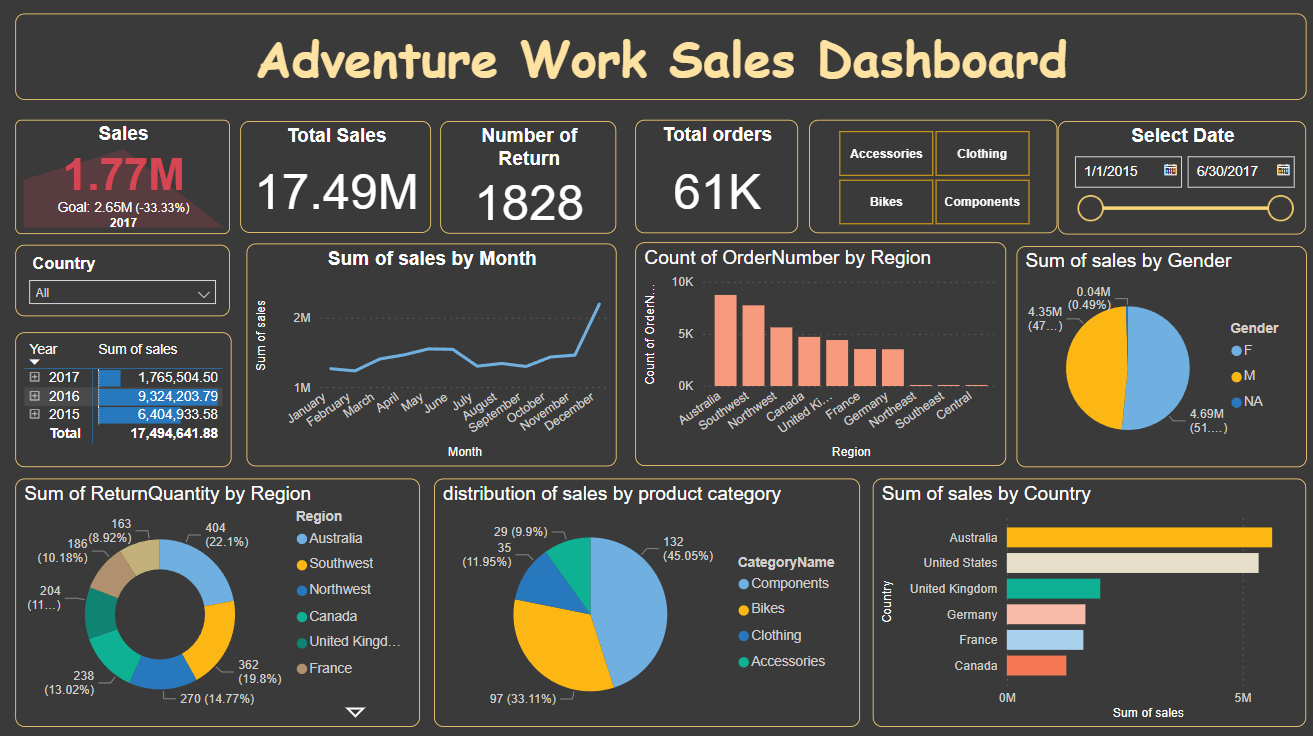

Layout of this report page (visuals, bound fields, positions):
{"tool":"powerbi","page":{"name":"Page 1","canvas":[1280,720],"ordinal":0},"visuals":[{"type":"pivotTable","fields":{"Values":["Sum(AW_sales_all_years.sales)"],"Rows":["AW_sales_all_years.OrderDate.Variation.Date Hierarchy.Year","AW_sales_all_years.OrderDate.Variation.Date Hierarchy.Month"]},"box":[15.9,326.5,210.3,130.8],"z":0},{"type":"pieChart","title":"distribution of sales by product category","fields":{"Category":["AdventureWorks_Product_Categories.CategoryName"],"Y":["CountNonNull(AdventureWorks_Products.ProductKey)"]},"box":[423.1,469.3,414.6,241.9],"z":1000},{"type":"columnChart","fields":{"Category":["AdventureWorks_Territories.Region"],"Y":["CountNonNull(AW_sales_all_years.OrderNumber)"]},"box":[618.8,239.5,361.1,217.6],"z":2000},{"type":"barChart","fields":{"Category":["AdventureWorks_Territories.Country"],"Y":["Sum(AW_sales_all_years.sales)"]},"box":[849.9,469.3,421.9,241.9],"z":3000},{"type":"donutChart","fields":{"Y":["Sum(AdventureWorks_Returns.ReturnQuantity)"],"Category":["AdventureWorks_Territories.Region"]},"box":[15.8,469.3,393.9,241.9],"z":4000},{"type":"kpi","title":"Sales","fields":{"Indicator":["Sum(AW_sales_all_years.sales)"],"Goal":["AW_sales_all_years.Target"],"TrendLine":["AW_sales_all_years.OrderDate.Variation.Date Hierarchy.Year"]},"box":[15.9,119.8,209.1,111.3],"z":5000},{"type":"card","title":"Total Sales","fields":{"Values":["Sum(AW_sales_all_years.sales)"]},"box":[235,121.8,185.9,108.8],"z":6000},{"type":"textbox","box":[15.9,17.1,1255.8,84.4],"z":7000},{"type":"lineChart","fields":{"Y":["Sum(AW_sales_all_years.sales)"],"Category":["AW_sales_all_years.OrderDate.Variation.Date Hierarchy.Month"]},"box":[240.7,240.7,359.9,216.4],"z":7001},{"type":"card","title":"Number of Return ","fields":{"Values":["Sum(AdventureWorks_Returns.ReturnQuantity)"]},"box":[429.2,121.6,171.4,109.4],"z":7002},{"type":"slicer","fields":{"Values":["AdventureWorks_Territories.Country"]},"box":[15.9,242.1,209.1,69.7],"z":7003},{"type":"slicer","title":"Select Date","fields":{"Values":["AW_sales_all_years.OrderDate"]},"box":[1029.8,121.6,241.9,110.6],"z":7004},{"type":"card","title":"Total orders ","fields":{"Values":["Sum(AW_sales_all_years.OrderQuantity)"]},"box":[618.8,120.4,158.1,110.6],"z":7005},{"type":"slicer","fields":{"Values":["AdventureWorks_Product_Categories.CategoryName"]},"box":[787.8,120.4,241.9,110.6],"z":7006},{"type":"pieChart","title":"Gender proportion for sales","fields":{"Y":["Sum(AW_sales_all_years.sales)"],"Category":["AdventureWorks_Customers.Gender"]},"box":[989.7,243.2,282.1,215.2],"z":7007}]}

Visuals, with their boxes in screenshot pixels (x1, y1, x2, y2), scaled from the page's 1280x720 canvas onto the 1313x736 screenshot:
pivotTable - Sum(AW_sales_all_years.sales) x AW_sales_all_years.OrderDate.Variation.Date Hierarchy.Year: rect(16, 334, 232, 467)
"distribution of sales by product category" pieChart: rect(434, 480, 859, 727)
columnChart - AdventureWorks_Territories.Region x CountNonNull(AW_sales_all_years.OrderNumber): rect(635, 245, 1005, 467)
barChart - AdventureWorks_Territories.Country x Sum(AW_sales_all_years.sales): rect(872, 480, 1305, 727)
donutChart - Sum(AdventureWorks_Returns.ReturnQuantity) x AdventureWorks_Territories.Region: rect(16, 480, 420, 727)
"Sales" kpi: rect(16, 122, 231, 236)
"Total Sales" card: rect(241, 125, 432, 236)
textbox: rect(16, 17, 1304, 104)
lineChart - Sum(AW_sales_all_years.sales) x AW_sales_all_years.OrderDate.Variation.Date Hierarchy.Month: rect(247, 246, 616, 467)
"Number of Return " card: rect(440, 124, 616, 236)
slicer - AdventureWorks_Territories.Country: rect(16, 247, 231, 319)
"Select Date" slicer: rect(1056, 124, 1304, 237)
"Total orders " card: rect(635, 123, 797, 236)
slicer - AdventureWorks_Product_Categories.CategoryName: rect(808, 123, 1056, 236)
"Gender proportion for sales" pieChart: rect(1015, 249, 1305, 469)
